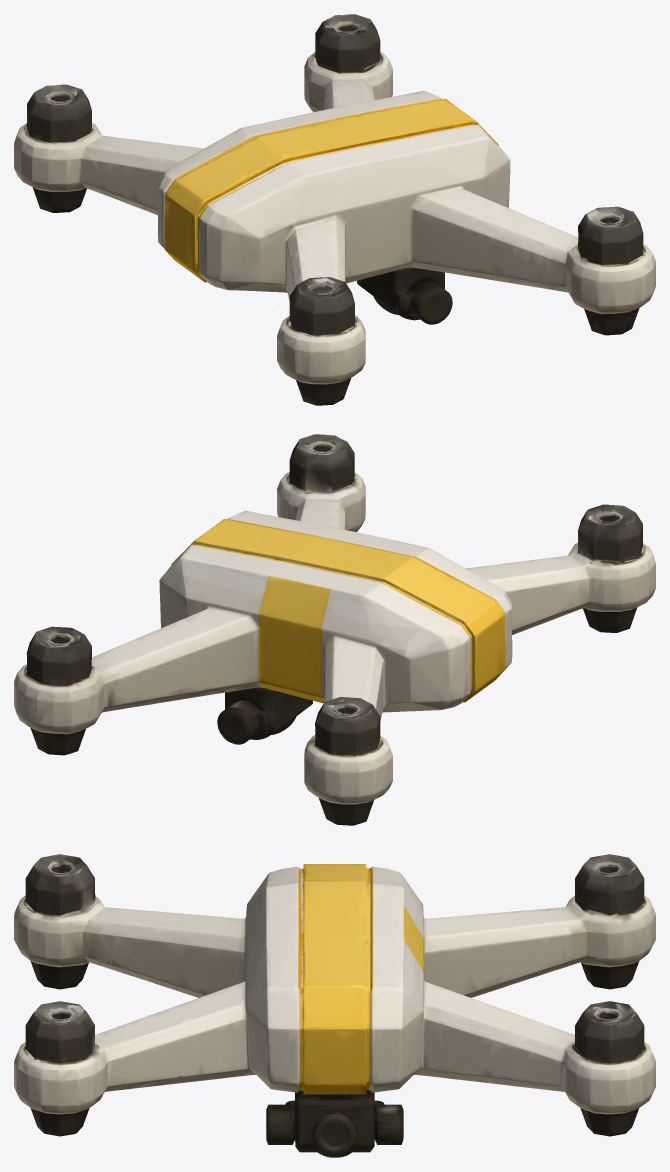
File: drone.glb
3 renders of one model, top to bottom at view 1: azimuth 30°, elevation 25°; view 2: azimuth 150°, elevation 25°; view 3: azimuth 270°, elevation 25°, orthographic. The views are drawn at different scales.
Parts seen in each view (by area): view 1: node_0; view 2: node_0; view 3: node_0.
Part boxes in pixels (x1=…): node_0: x1=14, y1=14, x2=655, y2=405; node_0: x1=14, y1=434, x2=655, y2=825; node_0: x1=14, y1=854, x2=655, y2=1157.
Bounding box in the file's own units: 0.6391 × 0.3295 × 0.9315.
1 material, 1 textured.
